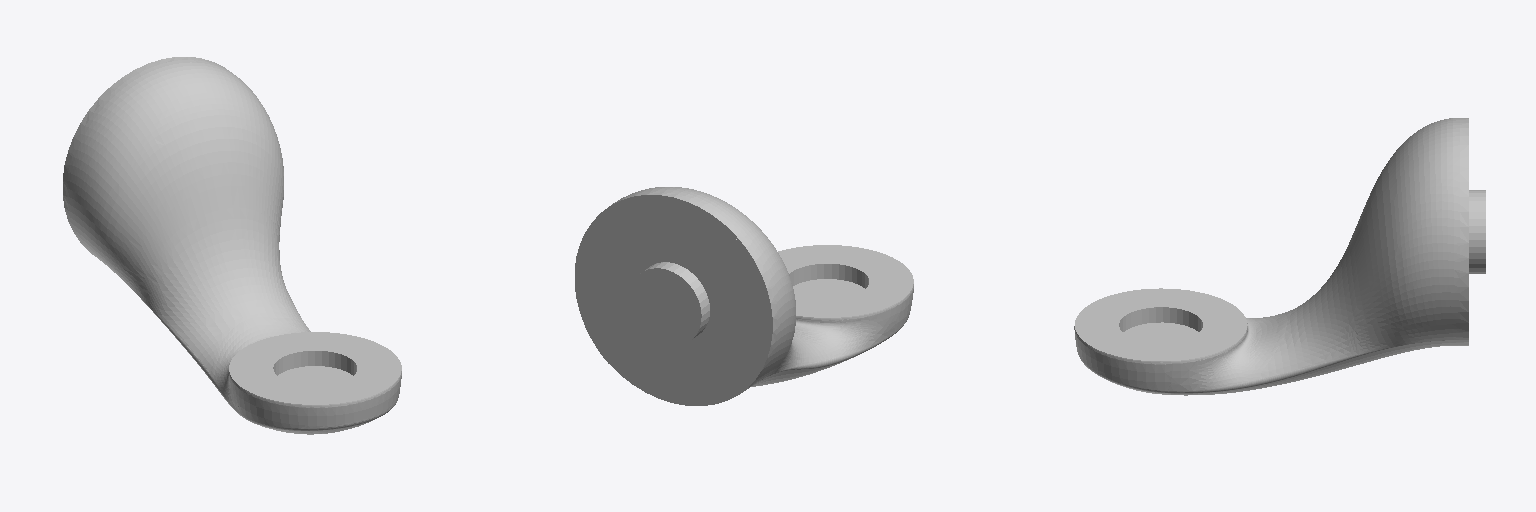
The picture shows the model from 3 angles: view 1: azimuth 30°, elevation 25°; view 2: azimuth 150°, elevation 25°; view 3: azimuth 270°, elevation 25°; orthographic projection.
Parts seen in each view (by area): view 1: /ambf/env/Link5; view 2: /ambf/env/Link5; view 3: /ambf/env/Link5.
Boxes of the visible parts, x1=… form: /ambf/env/Link5: x1=63, y1=57, x2=401, y2=434; /ambf/env/Link5: x1=575, y1=187, x2=913, y2=405; /ambf/env/Link5: x1=1074, y1=118, x2=1485, y2=395.
Size of the model in its own units: 0.1385 by 0.1702 by 0.2486.